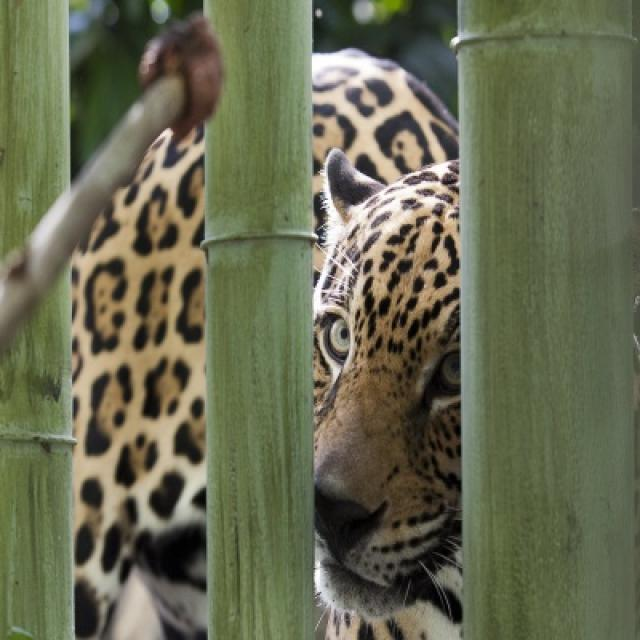Jaguar: (70, 18, 222, 638), (312, 50, 462, 638)
